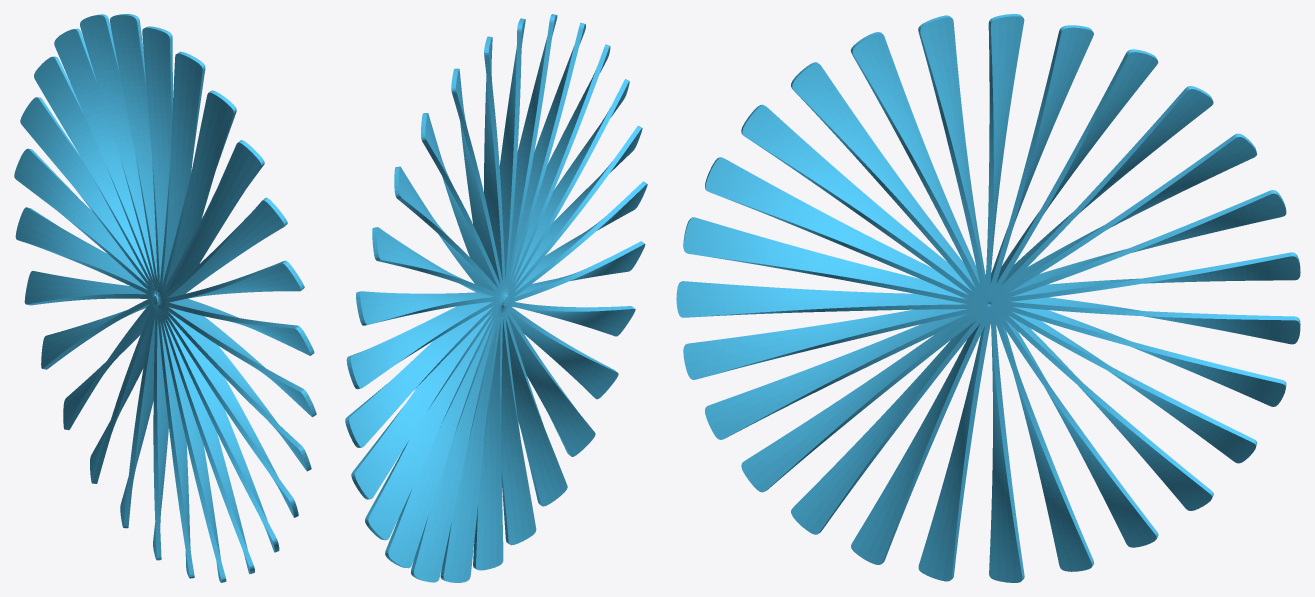
The model's file is Turbine.gltf.
The picture shows the model from 3 angles, left to right: view 1: azimuth 30°, elevation 25°; view 2: azimuth 150°, elevation 25°; view 3: azimuth 270°, elevation 25°; orthographic projection. The views are drawn at different scales.
Visible parts, largest first — view 1: Plane; view 2: Plane; view 3: Plane.
Boxes of the visible parts, x1,y1,x2,y2 form: Plane: (14,14,316,582); Plane: (345,14,647,582); Plane: (676,14,1300,582).
Size of the model in its own units: 0.0277 by 0.6521 by 0.6516.
